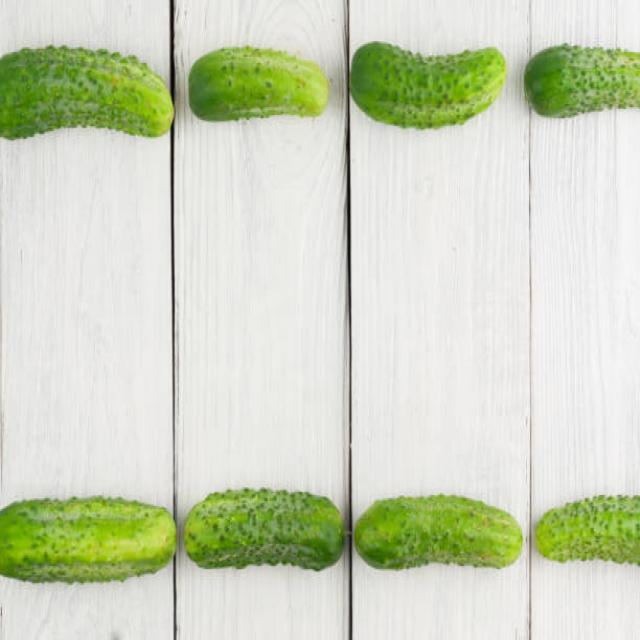cucumber: (0, 42, 175, 142), (0, 497, 176, 582), (348, 41, 506, 133), (183, 485, 344, 573), (354, 494, 523, 573), (190, 45, 328, 124), (524, 42, 640, 116), (532, 492, 640, 570)
